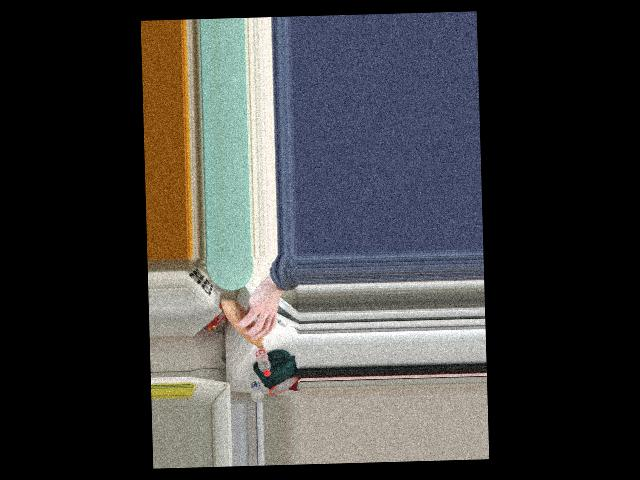sweet_potato: (223, 304, 274, 347)
